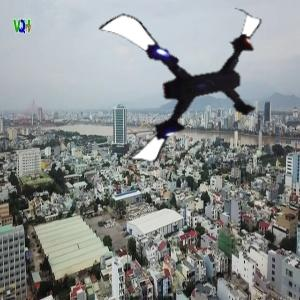drone: (98, 5, 268, 175)
